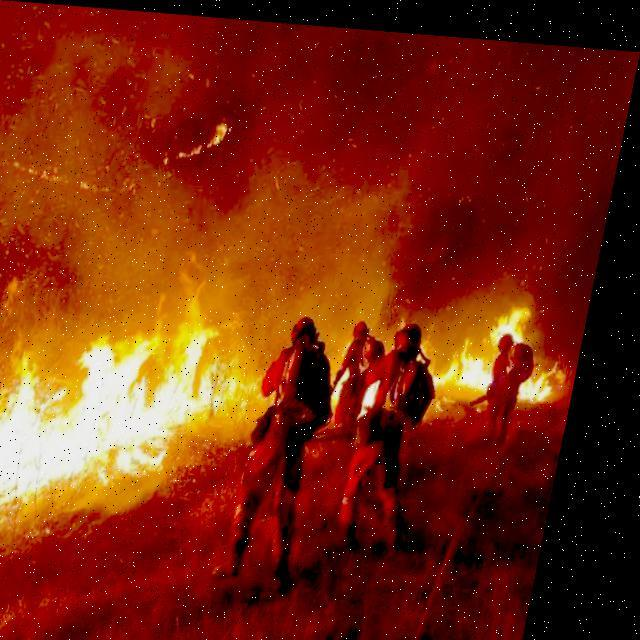Fire: (0, 306, 242, 550), (445, 296, 580, 395)
